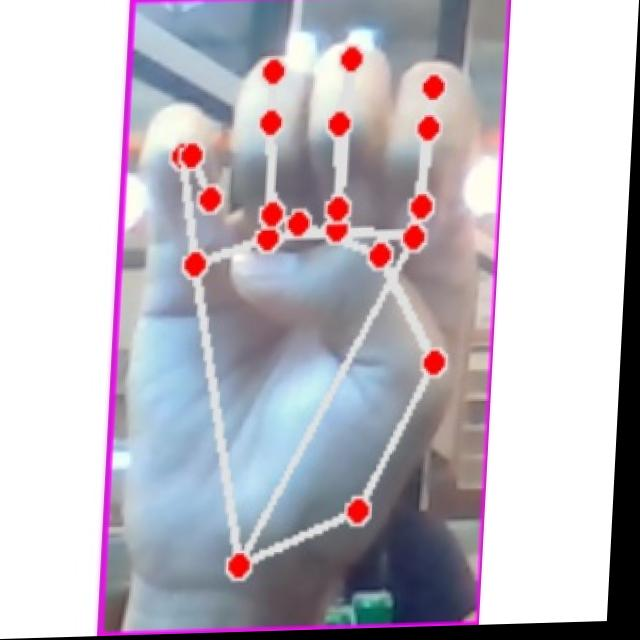E: (121, 28, 497, 573)
